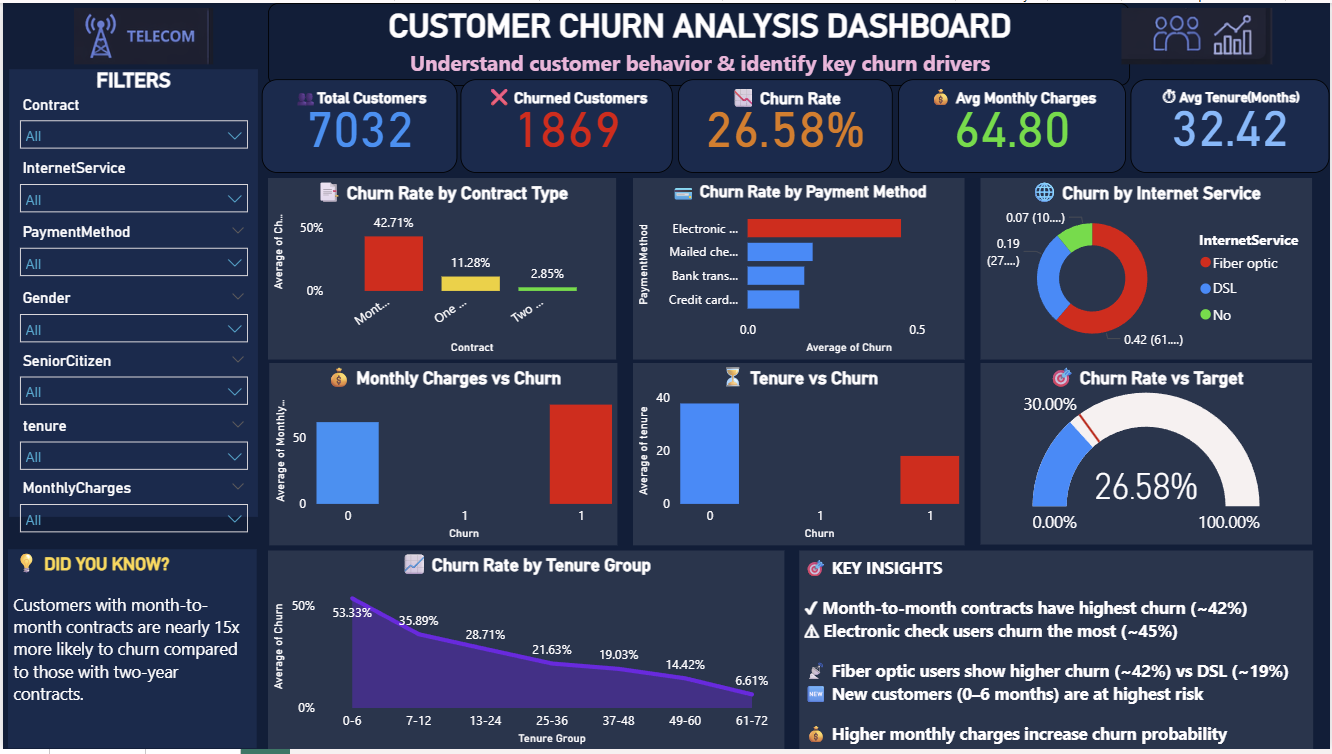

This screenshot's page, from the dashboard's own definition file:
{"tool":"powerbi","page":{"name":"Page 1","canvas":[1280,720],"ordinal":0},"visuals":[{"type":"textbox","title":"CUSTOMER CHURN ANALYSIS DASHBOARD","box":[256,0,832,80],"z":0},{"type":"card","title":"👥Total Customers","fields":{"Values":["CountNonNull(churn_cleaned.tenure)"]},"box":[250,73,189,90],"z":1000},{"type":"card","title":"💰 Avg Monthly Charges","fields":{"Values":["Avg(churn_cleaned.MonthlyCharges)"]},"box":[864,73,220,90],"z":2000},{"type":"card","title":"⏱ Avg Tenure(Months)","fields":{"Values":["Avg(churn_cleaned.tenure)"]},"box":[1088,73,192,90],"z":3000},{"type":"card","title":"📉 Churn Rate","fields":{"Values":["churn_cleaned.Churn Rate"]},"box":[651,73,207,90],"z":4000},{"type":"clusteredColumnChart","title":"📑 Churn Rate by Contract Type","fields":{"Category":["churn_cleaned.Contract"],"Y":["Avg(churn_cleaned.Churn)"]},"box":[256,169,336,175],"z":5000},{"type":"clusteredBarChart","title":"💳 Churn Rate by Payment Method","fields":{"Category":["churn_cleaned.PaymentMethod"],"Y":["Avg(churn_cleaned.Churn)"]},"box":[608,169,320,175],"z":6000},{"type":"donutChart","title":"🌐 Churn by Internet Service","fields":{"Category":["churn_cleaned.InternetService"],"Y":["Avg(churn_cleaned.Churn)"]},"box":[944,169,320,175],"z":7000},{"type":"columnChart","title":"💰 Monthly Charges vs Churn","fields":{"Category":["churn_cleaned.Churn"],"Y":["Avg(churn_cleaned.MonthlyCharges)"]},"box":[257,348,336,176],"z":8000},{"type":"gauge","title":"🎯 Churn Rate vs Target","fields":{"Y":["churn_cleaned.Churn Rate"],"TargetValue":["churn_cleaned.Target"]},"box":[944,348,320,175],"z":9000},{"type":"clusteredColumnChart","title":"⏳ Tenure vs Churn","fields":{"Y":["Avg(churn_cleaned.tenure)"],"Category":["churn_cleaned.Churn"]},"box":[608,348,320,176],"z":10000},{"type":"textbox","title":"FILTERS","box":[6,64,240,432],"z":11000},{"type":"slicer","fields":{"Values":["churn_cleaned.Contract"]},"box":[6,84,240,64],"z":12000},{"type":"slicer","fields":{"Values":["churn_cleaned.InternetService"]},"box":[6,146,240,64],"z":13000},{"type":"slicer","fields":{"Values":["churn_cleaned.PaymentMethod"]},"box":[6,208,240,64],"z":14000},{"type":"slicer","fields":{"Values":["churn_cleaned.gender"]},"box":[6,271,240,61],"z":15000},{"type":"slicer","fields":{"Values":["churn_cleaned.SeniorCitizen"]},"box":[6,332,240,64],"z":16000},{"type":"card","title":"❌ Churned Customers","fields":{"Values":["churn_cleaned.Churned Customers"]},"box":[442,73,205,90],"z":17000},{"type":"lineChart","title":"📈 Churn Rate by Tenure Group","fields":{"Category":["churn_cleaned.Tenure Group"],"Y":["Avg(churn_cleaned.Churn)"]},"box":[256,528,498,192],"z":18000},{"type":"textbox","box":[768,528,496,192],"z":19000},{"type":"textbox","title":"💡 DID YOU KNOW?","box":[5,527,240,192],"z":20000},{"type":"image","box":[16,0,240,64],"z":21000},{"type":"image","box":[1024,0,256,64],"z":22000},{"type":"slicer","fields":{"Values":["churn_cleaned.tenure"]},"box":[6,395,240,64],"z":23000},{"type":"slicer","fields":{"Values":["churn_cleaned.MonthlyCharges"]},"box":[6,455,240,64],"z":24000}]}

Visuals, with their boxes in screenshot pixels (x1, y1, x2, y2), scaled from the page's 1280x720 canvas onto the 1332x754 screenshot:
"CUSTOMER CHURN ANALYSIS DASHBOARD" textbox: bbox=[266, 0, 1132, 84]
"👥Total Customers" card: bbox=[260, 76, 457, 171]
"💰 Avg Monthly Charges" card: bbox=[899, 76, 1128, 171]
"⏱ Avg Tenure(Months)" card: bbox=[1132, 76, 1331, 171]
"📉 Churn Rate" card: bbox=[677, 76, 893, 171]
"📑 Churn Rate by Contract Type" clusteredColumnChart: bbox=[266, 177, 616, 360]
"💳 Churn Rate by Payment Method" clusteredBarChart: bbox=[633, 177, 966, 360]
"🌐 Churn by Internet Service" donutChart: bbox=[982, 177, 1315, 360]
"💰 Monthly Charges vs Churn" columnChart: bbox=[267, 364, 617, 549]
"🎯 Churn Rate vs Target" gauge: bbox=[982, 364, 1315, 548]
"⏳ Tenure vs Churn" clusteredColumnChart: bbox=[633, 364, 966, 549]
"FILTERS" textbox: bbox=[6, 67, 256, 519]
slicer - churn_cleaned.Contract: bbox=[6, 88, 256, 155]
slicer - churn_cleaned.InternetService: bbox=[6, 153, 256, 220]
slicer - churn_cleaned.PaymentMethod: bbox=[6, 218, 256, 285]
slicer - churn_cleaned.gender: bbox=[6, 284, 256, 348]
slicer - churn_cleaned.SeniorCitizen: bbox=[6, 348, 256, 415]
"❌ Churned Customers" card: bbox=[460, 76, 673, 171]
"📈 Churn Rate by Tenure Group" lineChart: bbox=[266, 553, 785, 753]
textbox: bbox=[799, 553, 1315, 753]
"💡 DID YOU KNOW?" textbox: bbox=[5, 552, 255, 753]
image: bbox=[17, 0, 266, 67]
image: bbox=[1066, 0, 1331, 67]
slicer - churn_cleaned.tenure: bbox=[6, 414, 256, 481]
slicer - churn_cleaned.MonthlyCharges: bbox=[6, 476, 256, 544]
